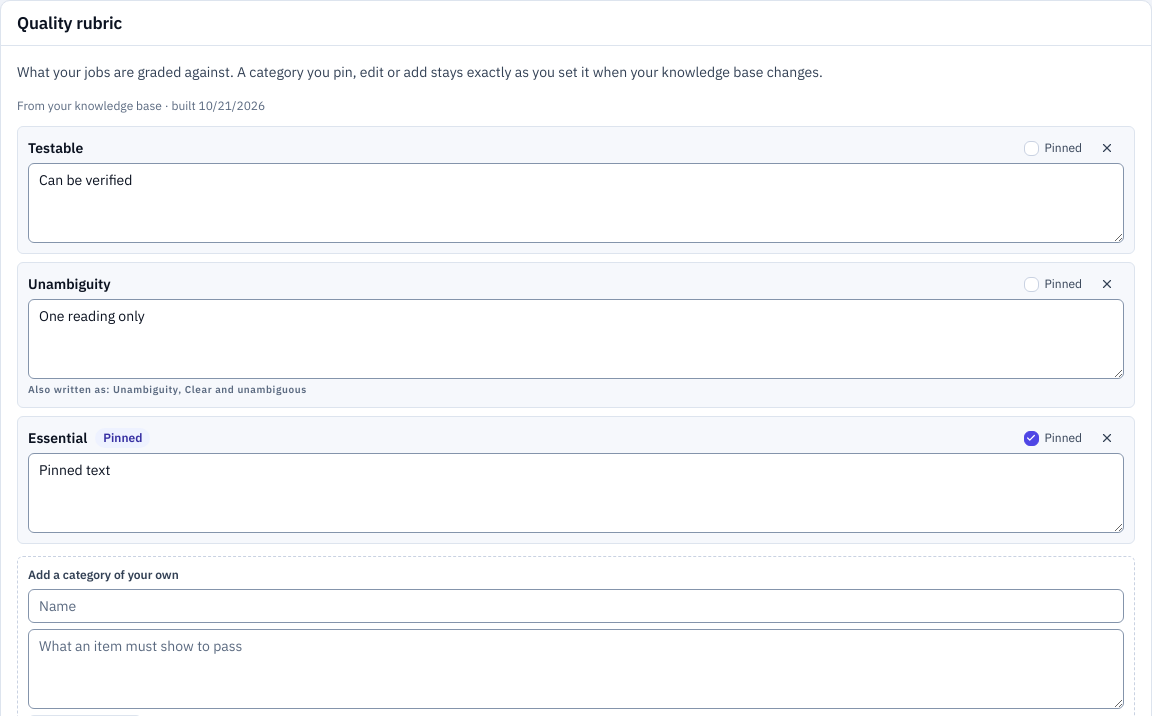
Test: RubricPanel › restoring a removed category brings it back and leaves nothing to save
Click the button named "Remove Unambiguity": (1107,284) [1090,273,1124,295]
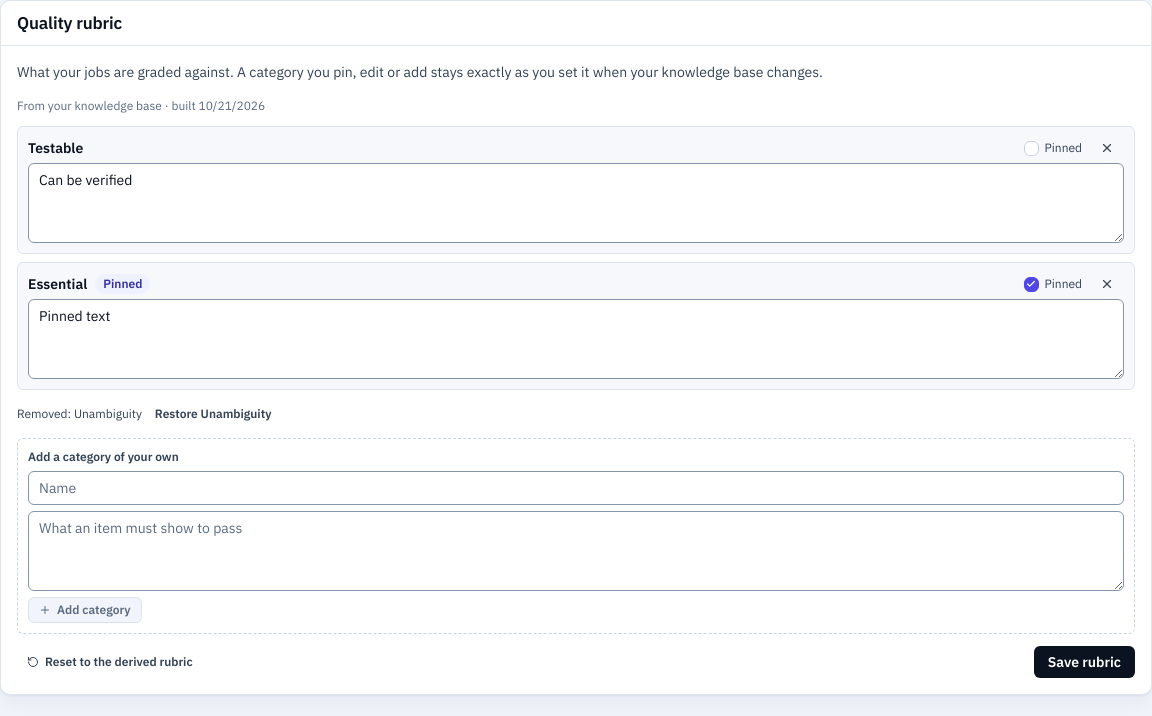
Click the button "Restore Unambiguity": (213,414) [145,402,281,426]
(page scrolled)
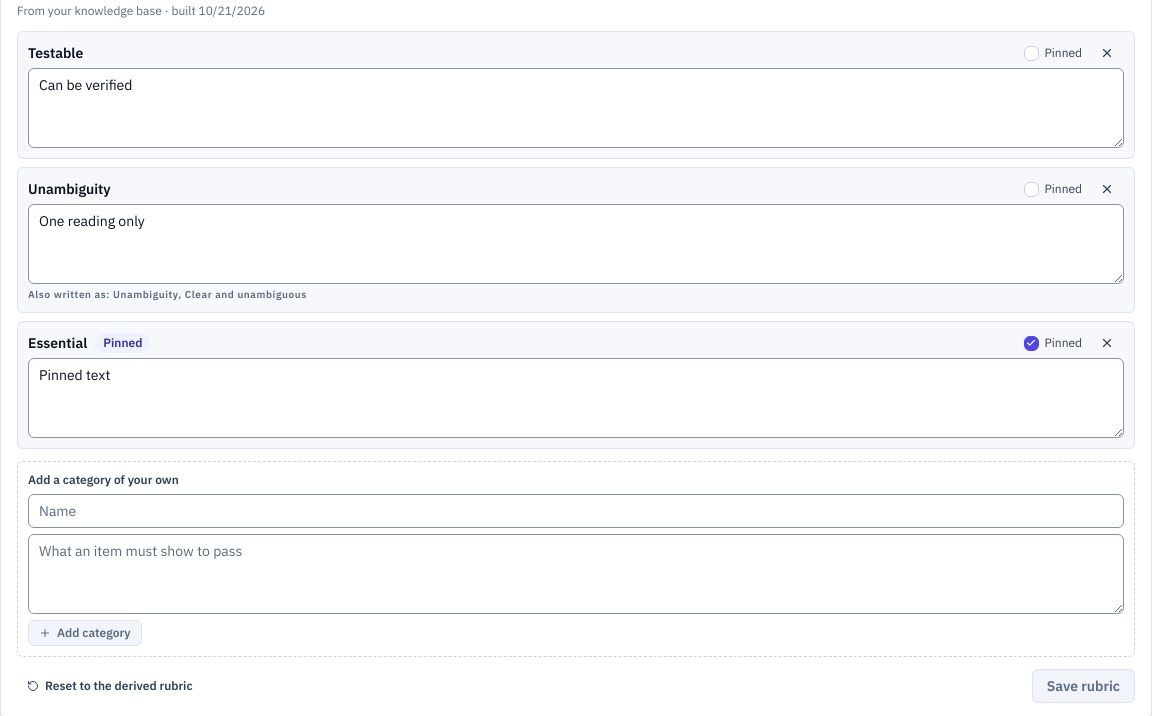
Now the text box named "Pass condition of Unambiguity" is shown, box [28,204,1124,284]
Now the button "Save rubric" is disabled, box [1032,669,1135,703]
